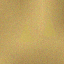structure: (18, 22, 33, 41), (42, 17, 56, 36)
